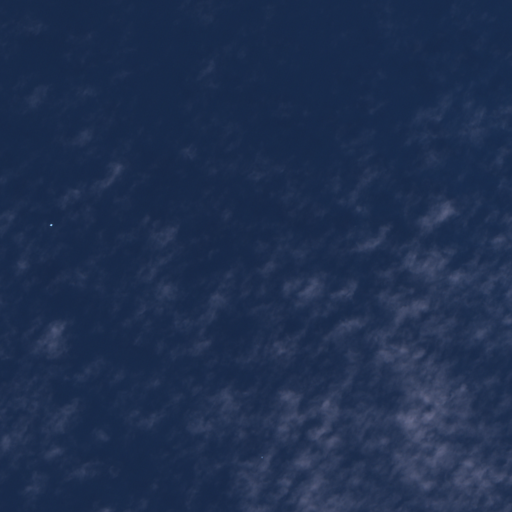Iceberg: (49, 223, 52, 226), (261, 456, 262, 457)
